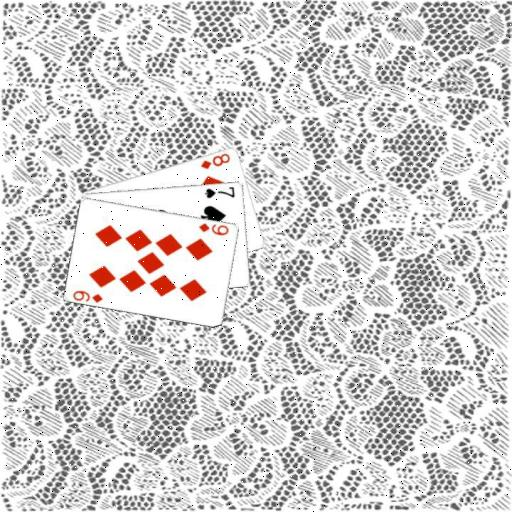7S: (202, 184, 236, 200)
8D: (198, 150, 232, 170)
9D: (197, 220, 231, 237), (70, 288, 105, 304)
